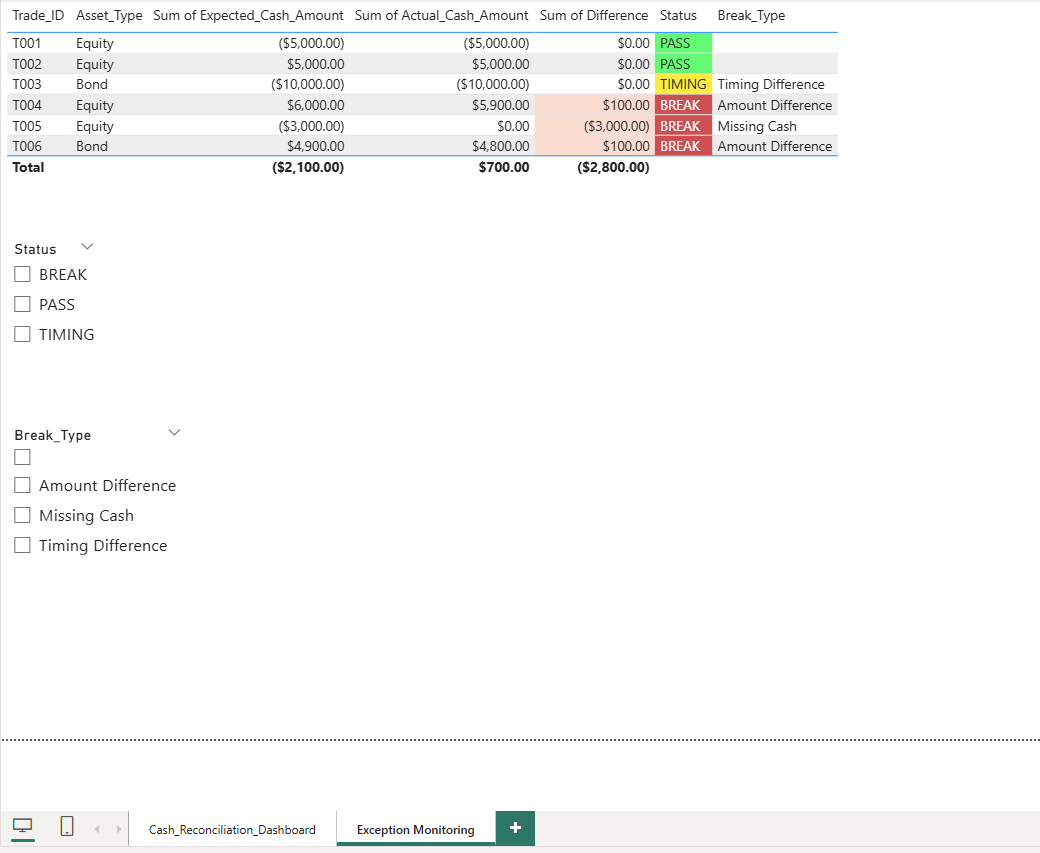

What the dashboard file says about the page in this screenshot:
{"tool":"powerbi","page":{"name":"Exception Monitoring","canvas":[1280,720],"ordinal":1},"visuals":[{"type":"tableEx","fields":{"Values":["Cash_Reconciliation.Trade_ID","Cash_Reconciliation.Asset_Type","Sum(Cash_Reconciliation.Expected_Cash_Amount)","Sum(Cash_Reconciliation.Actual_Cash_Amount)","Sum(Cash_Reconciliation.Difference)","Cash_Reconciliation.Status","Cash_Reconciliation.Break_Type"]},"box":[0,0,841.3,179.9],"z":0},{"type":"slicer","fields":{"Values":["Cash_Reconciliation.Status"]},"box":[0,229.5,103.1,130.3],"z":1},{"type":"slicer","fields":{"Values":["Cash_Reconciliation.Break_Type"]},"box":[0,410.5,187.7,148.8],"z":2}]}

Visuals, with their boxes on the page's 1280x720 design canvas (x1, y1, x2, y2). These are canvas units, not pixel positions in the 1040x853 screenshot, which may show the page scaled, cropped or inside an application window:
tableEx - Cash_Reconciliation.Trade_ID x Cash_Reconciliation.Asset_Type: 0,0,841,180
slicer - Cash_Reconciliation.Status: 0,230,103,360
slicer - Cash_Reconciliation.Break_Type: 0,410,188,559
